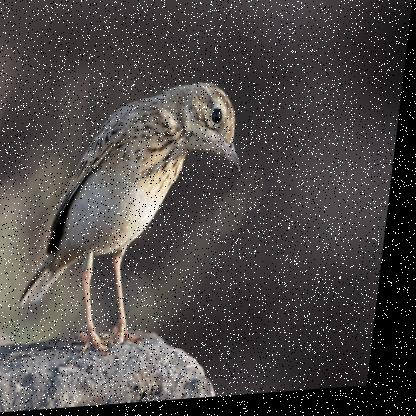Burung: (20, 80, 256, 362)
